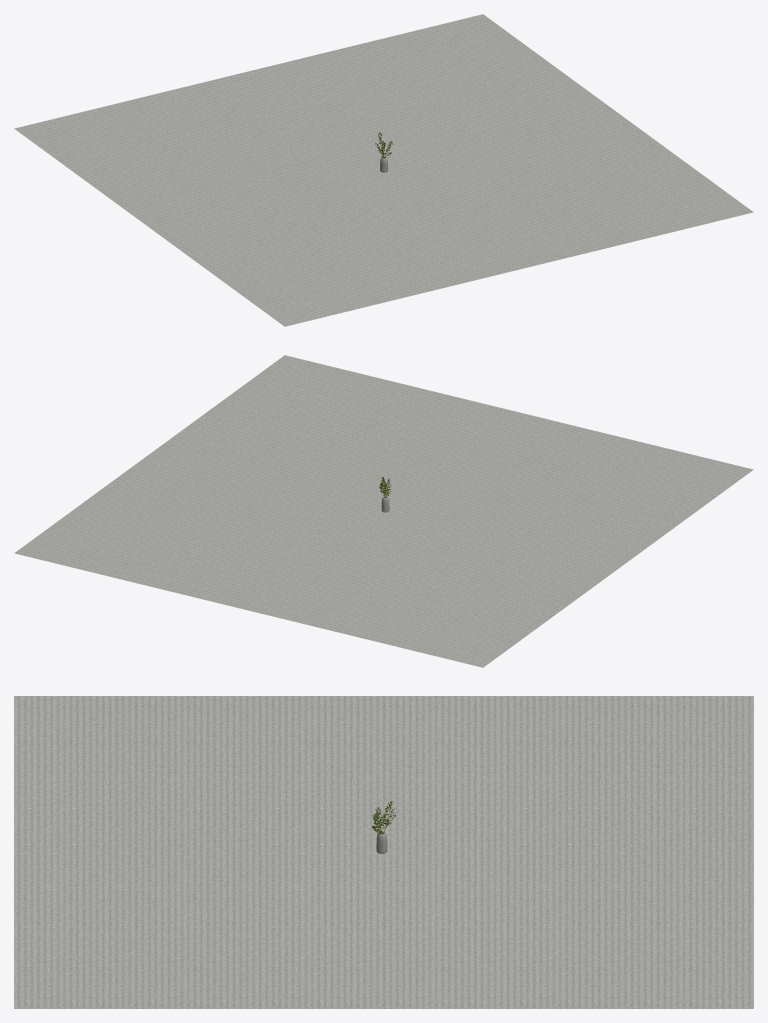
File: Vase1.glb
3 views of the same model, one above another, from view 1: azimuth 30°, elevation 25°; view 2: azimuth 150°, elevation 25°; view 3: azimuth 270°, elevation 25° (orthographic). The views are drawn at different scales.
Visible parts, largest first — view 1: 0eb83bc1-1b4c-4062-8ef2-16e0b4646449; view 2: 0eb83bc1-1b4c-4062-8ef2-16e0b4646449; view 3: 0eb83bc1-1b4c-4062-8ef2-16e0b4646449.
Part boxes in pixels (<box>): 0eb83bc1-1b4c-4062-8ef2-16e0b4646449: <box>14,14,753,326</box>; 0eb83bc1-1b4c-4062-8ef2-16e0b4646449: <box>14,355,753,667</box>; 0eb83bc1-1b4c-4062-8ef2-16e0b4646449: <box>14,696,753,1008</box>.
Size of the model in its own units: 4 by 0.3001 by 4.
Materials: 4 (3 with a texture image).
